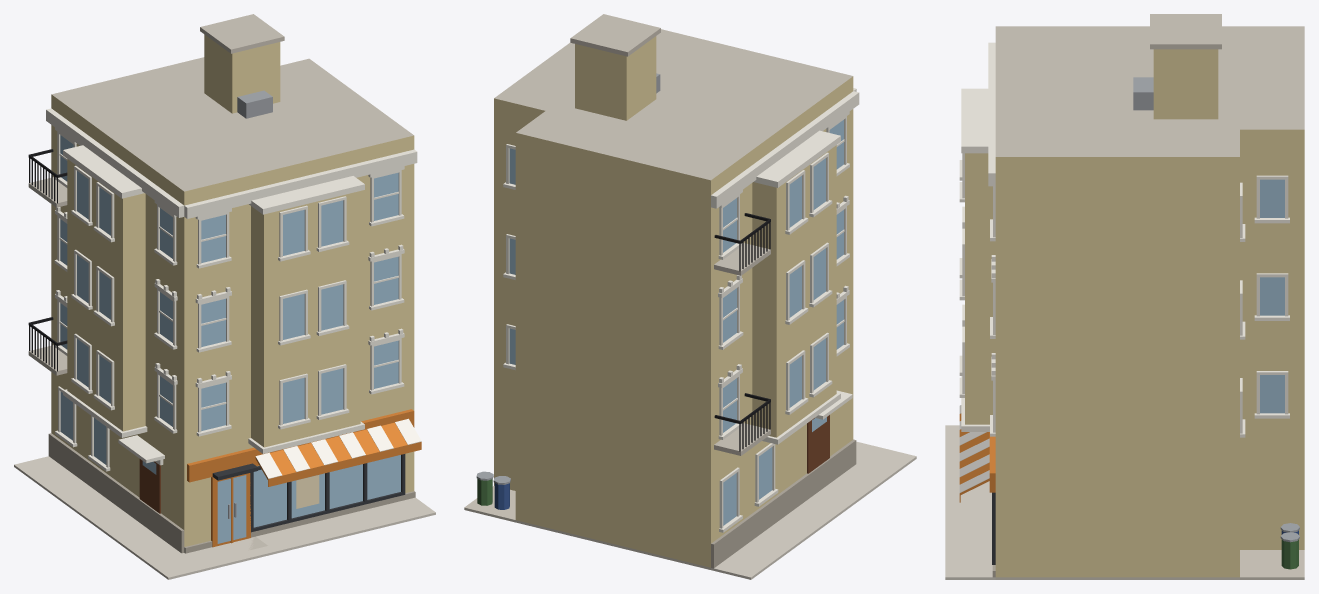
The model's file is Blok_kose_4k_4_Hafif.fbx.
The picture shows the model from 3 angles, left to right: view 1: azimuth 30°, elevation 25°; view 2: azimuth 150°, elevation 25°; view 3: azimuth 270°, elevation 25°; orthographic projection. The views are drawn at different scales.
Parts seen in each view (by area): view 1: Blok_kose_4k_4_Hafif; view 2: Blok_kose_4k_4_Hafif; view 3: Blok_kose_4k_4_Hafif.
Boxes of the visible parts, x1,y1,x2,y2 form: Blok_kose_4k_4_Hafif: (14,14,435,579); Blok_kose_4k_4_Hafif: (464,14,916,579); Blok_kose_4k_4_Hafif: (945,14,1304,579).
Size of the model in its own units: 10 by 15.37 by 10.
